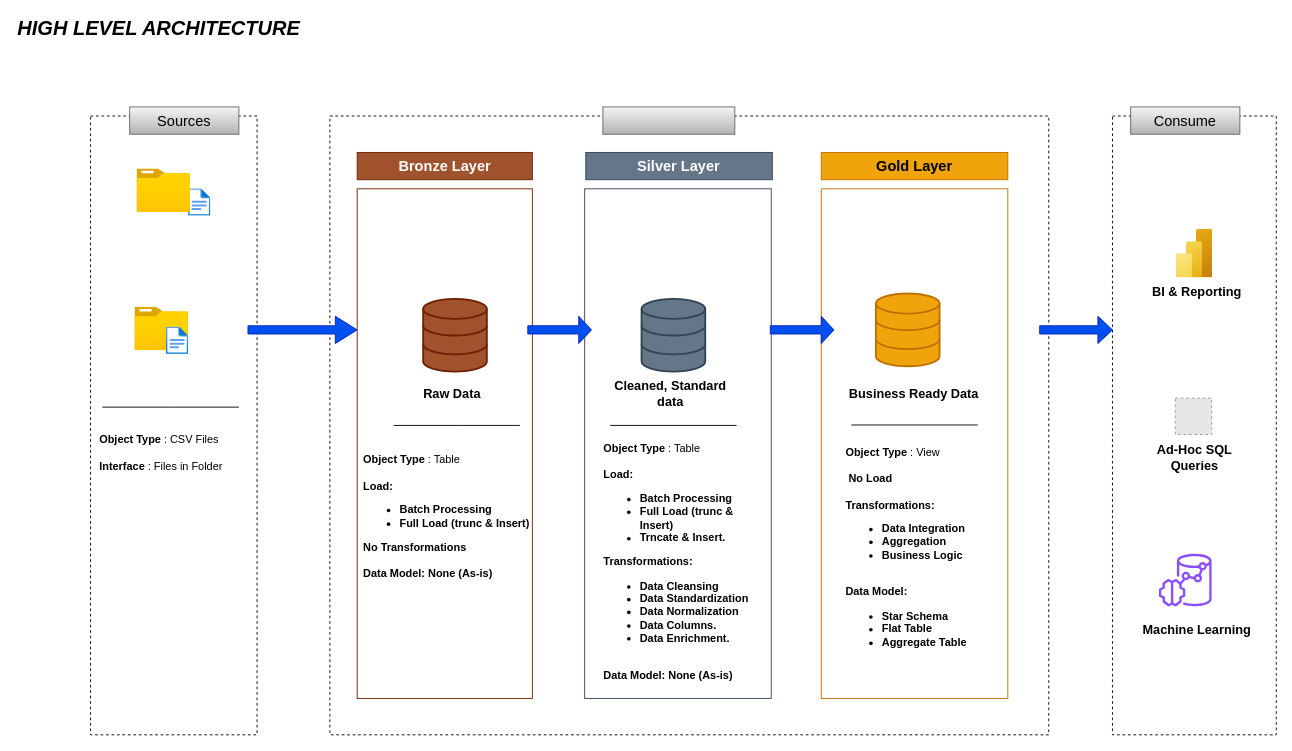
This 1292x751 diagram has some shape labels left out. Grey dashed boxes stand in for pictures. Here are the shapes that lost their labels. From the top down, the box of each, then its label:
(602, 106, 735, 134): Data Warehouse
(136, 168, 190, 212): CRM
(134, 307, 188, 350): ERP
